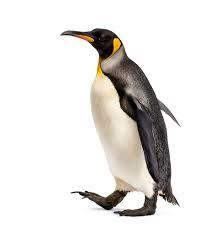king: (53, 20, 201, 224)
